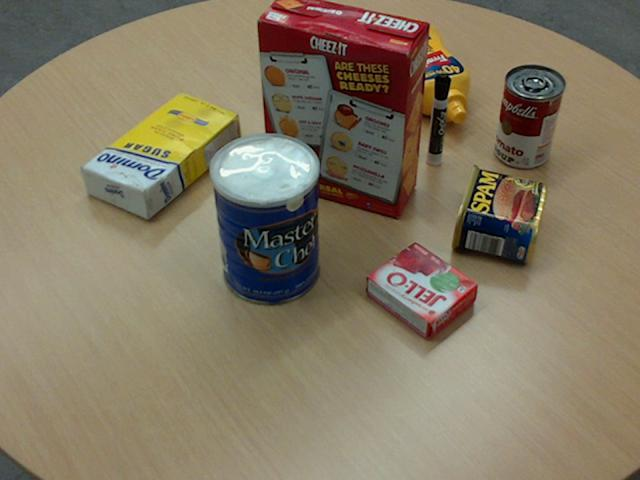cracker_box: (256, 0, 428, 216)
gelatin_box: (366, 241, 479, 338)
large_marker: (426, 73, 450, 164)
master_chef_can: (209, 132, 319, 305)
mug: (279, 34, 355, 125)
mustard_bottle: (366, 18, 469, 123)
potted_meat_can: (450, 163, 545, 262)
sugar_box: (79, 91, 240, 218)
tomato_soup_can: (494, 64, 565, 168)
tuna_fish_can: (295, 22, 357, 76)
